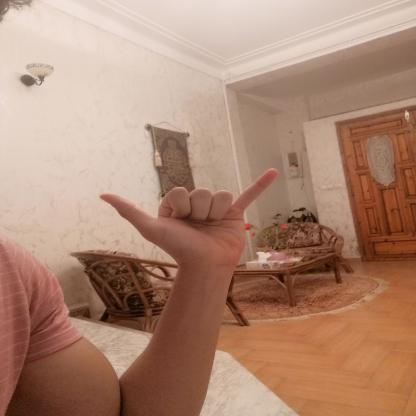YA: (87, 159, 291, 276)
